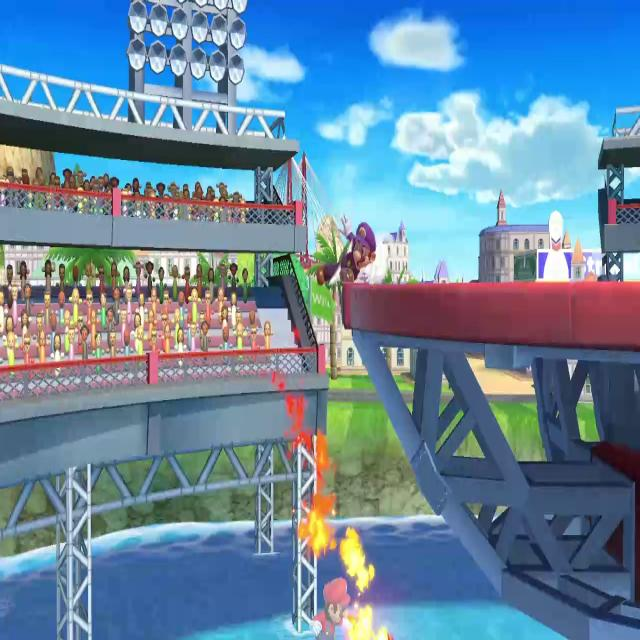Mario-DA: (310, 203, 378, 290)
Mario-NB: (307, 564, 363, 640)
